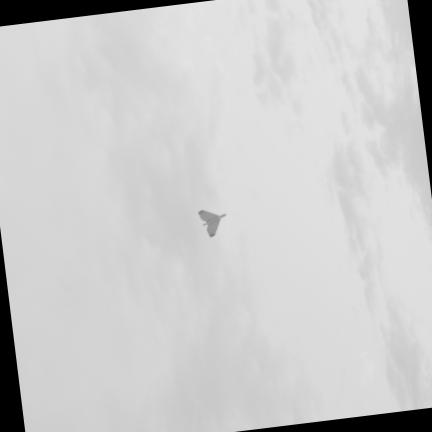Shahed: (198, 209, 224, 235)
